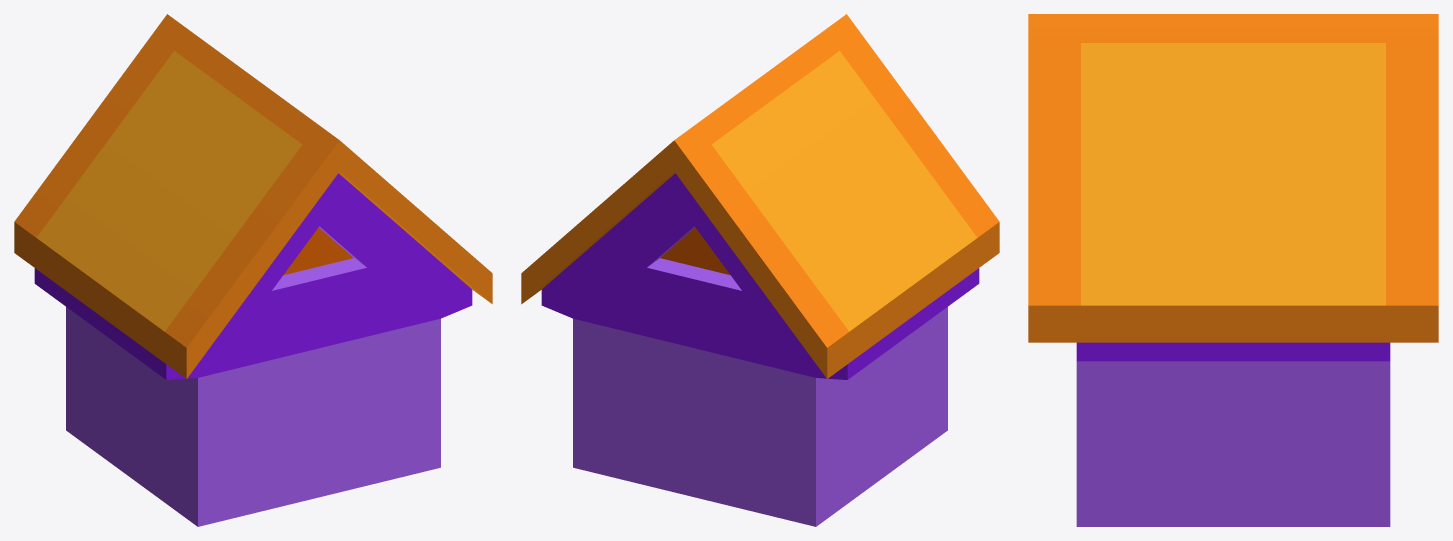
The model's file is SmallHouse.fbx.
3 renders of one model, left to right at view 1: azimuth 30°, elevation 25°; view 2: azimuth 150°, elevation 25°; view 3: azimuth 270°, elevation 25°, orthographic. The views are drawn at different scales.
Parts seen in each view (by area): view 1: SmallHouse_LOD0; view 2: SmallHouse_LOD0; view 3: SmallHouse_LOD0.
Part boxes in pixels (x1,y1,x2,y2): SmallHouse_LOD0: (14,14,492,526); SmallHouse_LOD0: (521,14,999,526); SmallHouse_LOD0: (1028,14,1438,526).
Size of what is drawn, in the model's own units: 7.13 by 8.29 by 6.97.
